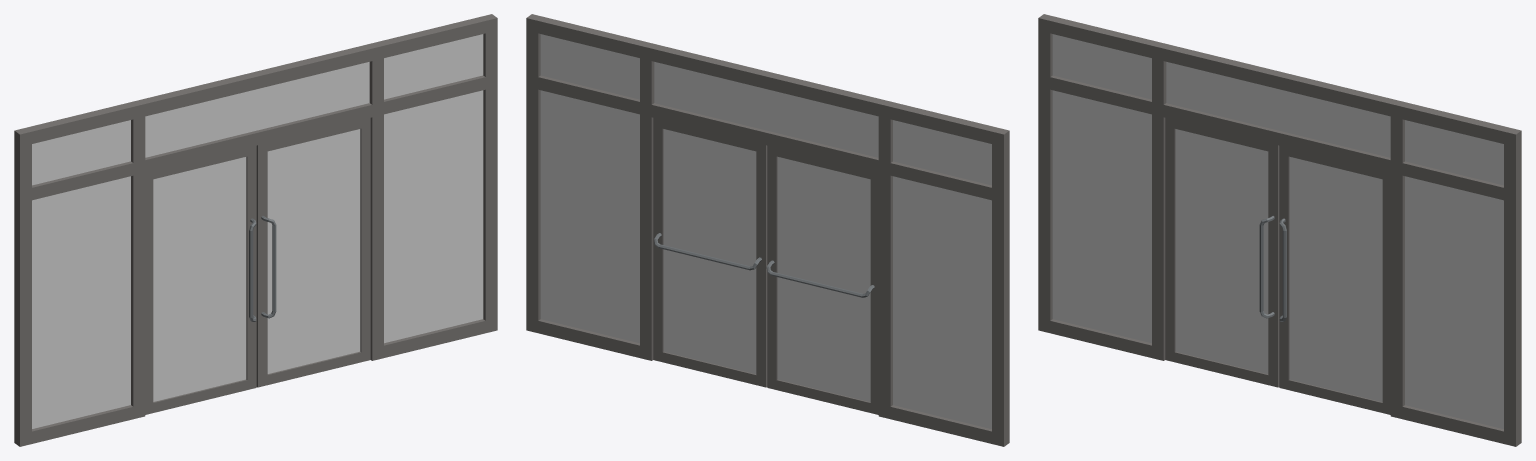
Rendered from SM_Bldg_City_InteriorWall_Door_Shop.fbx.
3 renders of one model, left to right at view 1: azimuth 30°, elevation 25°; view 2: azimuth 150°, elevation 25°; view 3: azimuth 330°, elevation 25°, orthographic.
Parts seen in each view (by area): view 1: SM_Bldg_City_InteriorWall_Door_Shop; view 2: SM_Bldg_City_InteriorWall_Door_Shop; view 3: SM_Bldg_City_InteriorWall_Door_Shop.
Boxes of the visible parts, x1,y1,x2,y2 form: SM_Bldg_City_InteriorWall_Door_Shop: (14, 14, 497, 446); SM_Bldg_City_InteriorWall_Door_Shop: (526, 14, 1009, 446); SM_Bldg_City_InteriorWall_Door_Shop: (1038, 14, 1521, 446).
Bounding box in the file's own units: 400 × 250 × 22.45.
